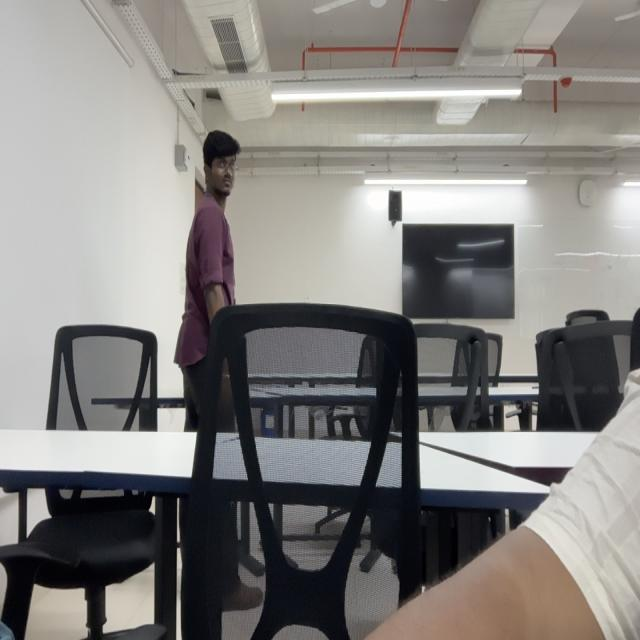ravindra: (200, 128, 243, 199)
